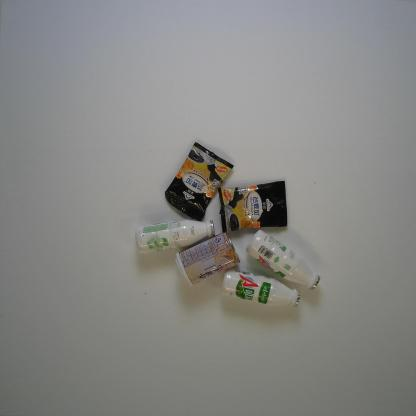Canned Food: (174, 231, 242, 287)
Instant Drink: (164, 141, 235, 222), (217, 180, 289, 233)
Milk: (244, 228, 320, 292), (220, 267, 301, 309), (135, 218, 216, 255)
